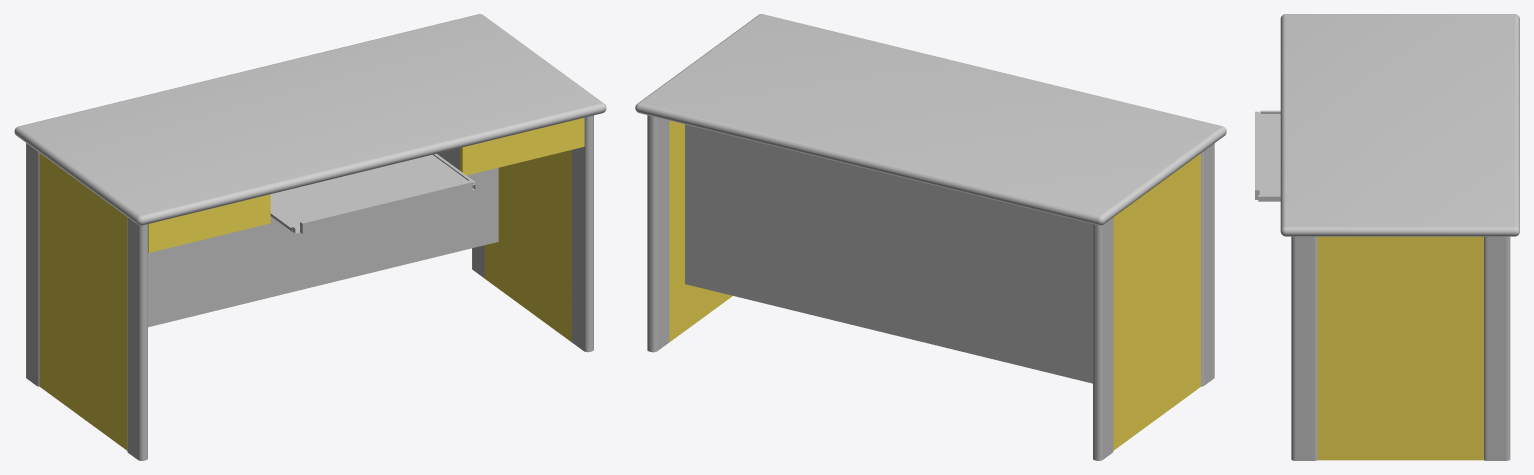
The model's file is Table.fbx.
3 renders of one model, left to right at view 1: azimuth 30°, elevation 25°; view 2: azimuth 150°, elevation 25°; view 3: azimuth 270°, elevation 25°, orthographic. The views are drawn at different scales.
Parts seen in each view (by area): view 1: Up, Box03, Box01, KeyboardPlace, Ящик1, Ящик2; view 2: Box03, Up, Box01; view 3: Up, Box01, Box03, KeyboardPlace.
Part boxes in pixels (x1,y1,x2,y2): Up: (14,14,606,225); Box03: (26,115,593,460); Box01: (39,150,571,450); KeyboardPlace: (270,155,475,233); Ящик1: (437,117,584,175); Ящик2: (148,194,270,252); Box03: (647,115,1214,460); Up: (635,14,1226,225); Box01: (669,120,1200,450); Up: (1280,14,1519,236); Box01: (1317,236,1483,460); Box03: (1260,110,1510,460); KeyboardPlace: (1255,111,1280,201).
Bounding box in the file's own units: 1500 × 760 × 775.
